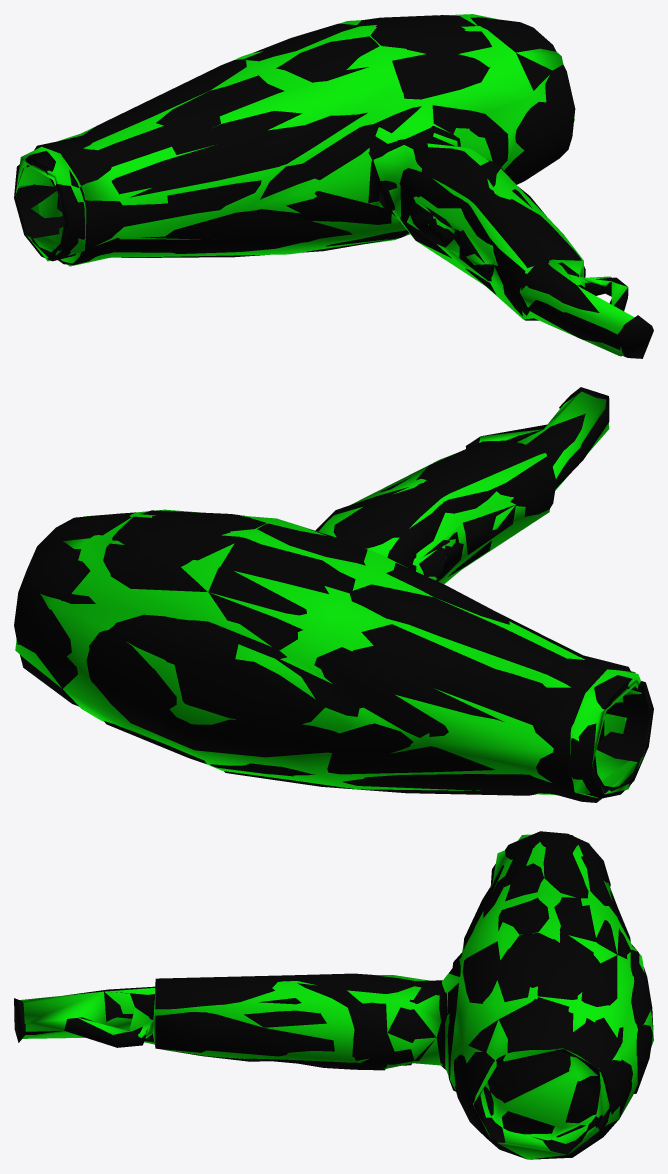
The model's file is wbready-hairdryer.fbx.
3 renders of one model, top to bottom at view 1: azimuth 30°, elevation 25°; view 2: azimuth 150°, elevation 25°; view 3: azimuth 270°, elevation 25°, orthographic. The views are drawn at different scales.
Visible parts, largest first — view 1: defaultobject_LOD0, UTM_firegeo; view 2: defaultobject_LOD0, UTM_firegeo; view 3: defaultobject_LOD0, UTM_firegeo.
Part boxes in pixels (x1,y1,x2,y2): defaultobject_LOD0: (14, 15, 653, 358); UTM_firegeo: (15, 14, 634, 356); defaultobject_LOD0: (14, 387, 653, 802); UTM_firegeo: (15, 391, 644, 798); defaultobject_LOD0: (14, 831, 653, 1159); UTM_firegeo: (20, 834, 653, 1159).
Size of what is drawn, in the model's own units: 42.41 by 16.48 by 50.65.
